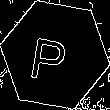P_N: (33, 27, 77, 83)
